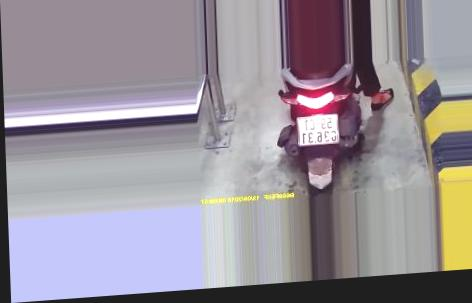License_Plate: (292, 108, 344, 151)
